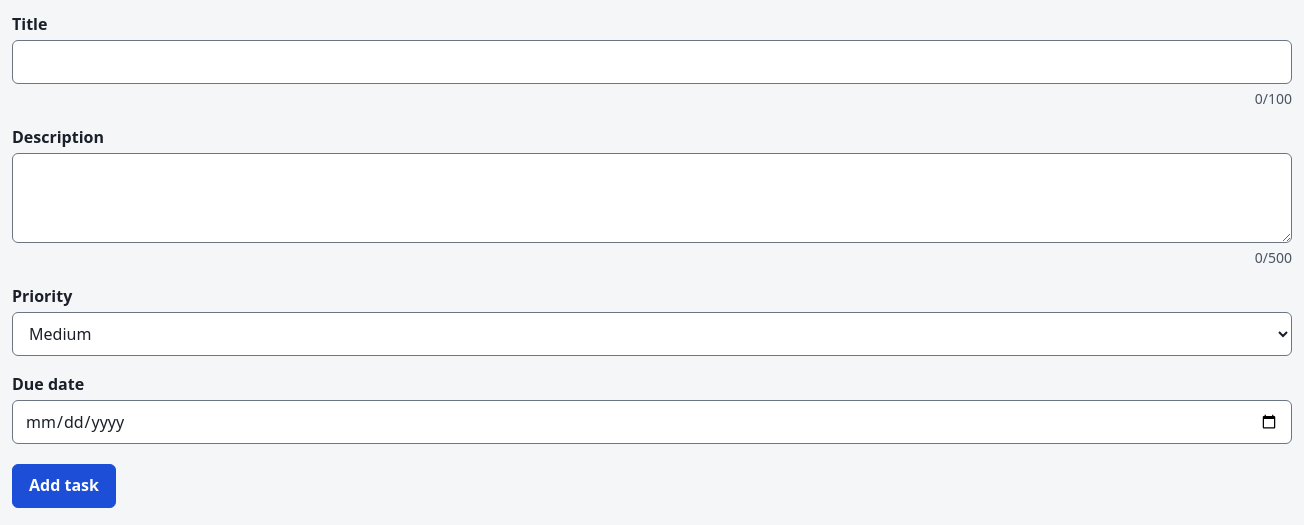
Scenario: TaskForm › shows a live counter that counts an emoji as one character
expect the text "0/100" is shown: met, box x1=1255 y1=88 x2=1292 y2=109
Type "Buy 🛒" into the field labelled "Title" at (652, 62), box x1=12 y1=40 x2=1292 y2=84
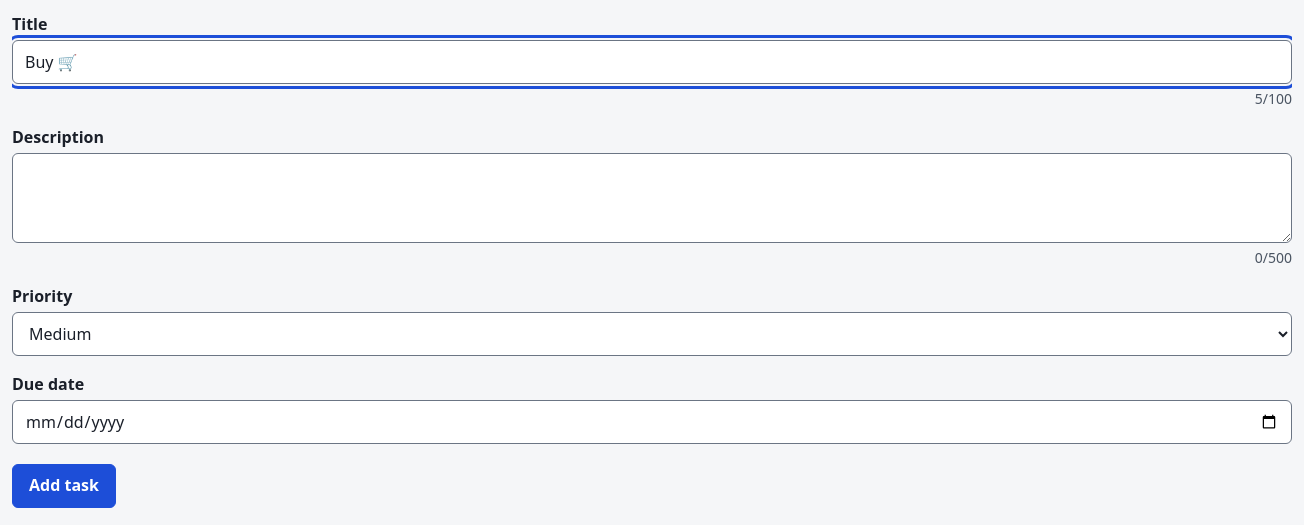
expect the text "5/100" is shown: met, box x1=1255 y1=88 x2=1292 y2=109
